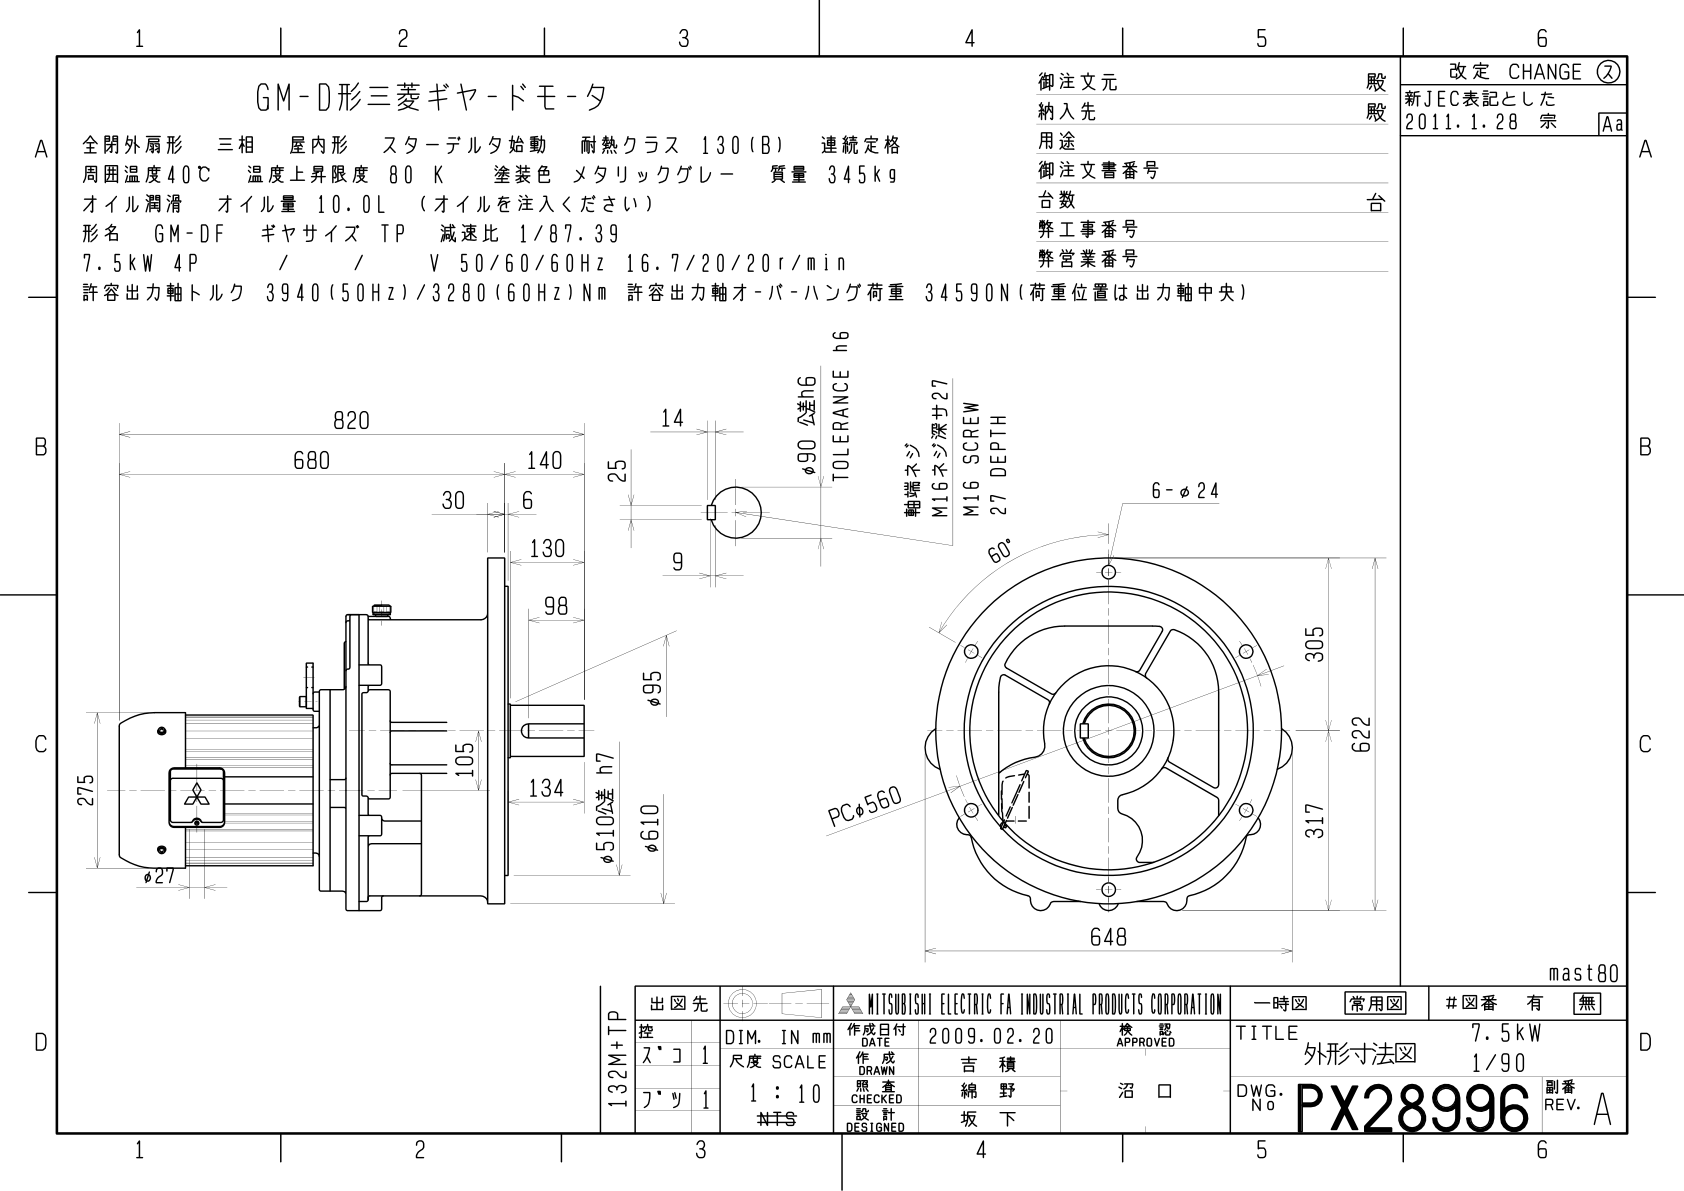GM_D_屋内＿三相_フランジ: (23, 24, 1684, 1191)
